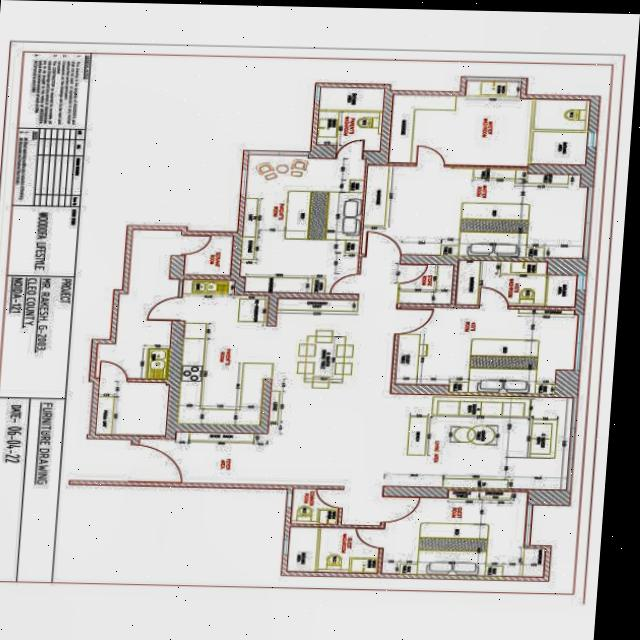room: (361, 165, 587, 261), (237, 150, 365, 301), (382, 394, 572, 490), (388, 79, 590, 167), (95, 226, 176, 439), (394, 306, 574, 395), (381, 489, 546, 577), (176, 277, 269, 429), (455, 260, 576, 307), (286, 526, 380, 575), (317, 86, 384, 152), (398, 264, 453, 304), (183, 235, 232, 275), (290, 488, 339, 525)
